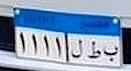1: (43, 35, 50, 55), (20, 31, 26, 54), (55, 38, 62, 56), (32, 34, 37, 55)
Taa: (87, 41, 101, 60)
baa: (103, 44, 118, 63)
laam: (71, 39, 83, 59)
